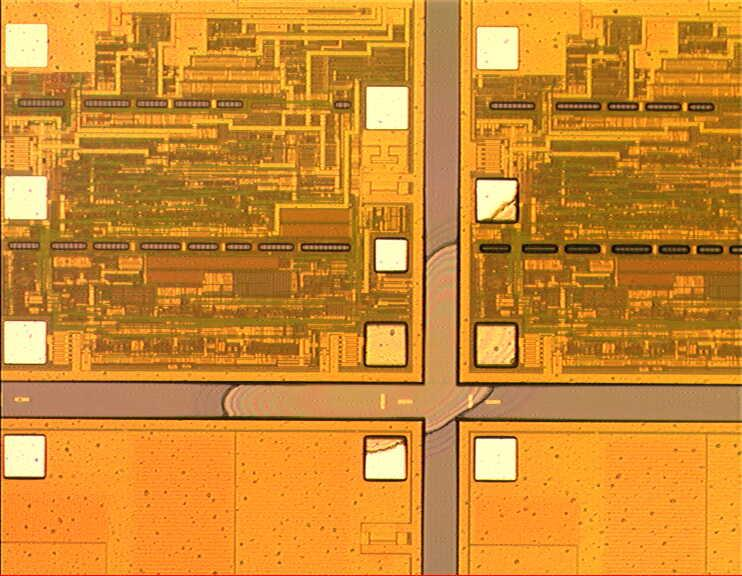COATING BAD: (224, 245, 497, 436)
